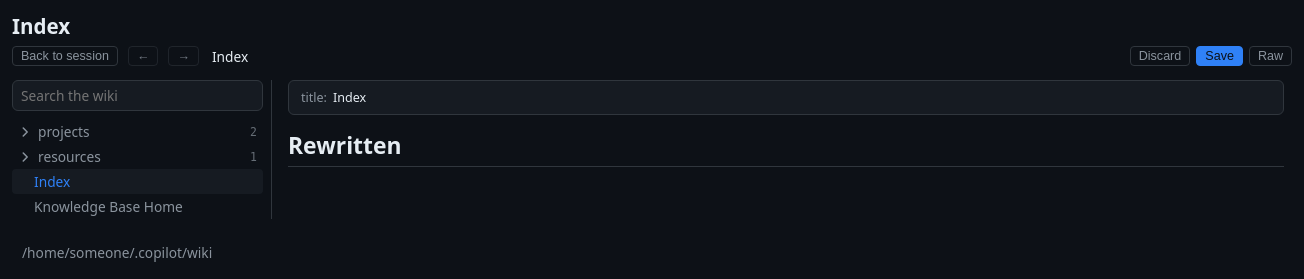
showing a page as the file it is › previews what is being written without saving it first
The width and height of the screenshot is (1304, 279).
Click the button "Raw". click: (1270, 56)
box: [1249,46,1292,66]
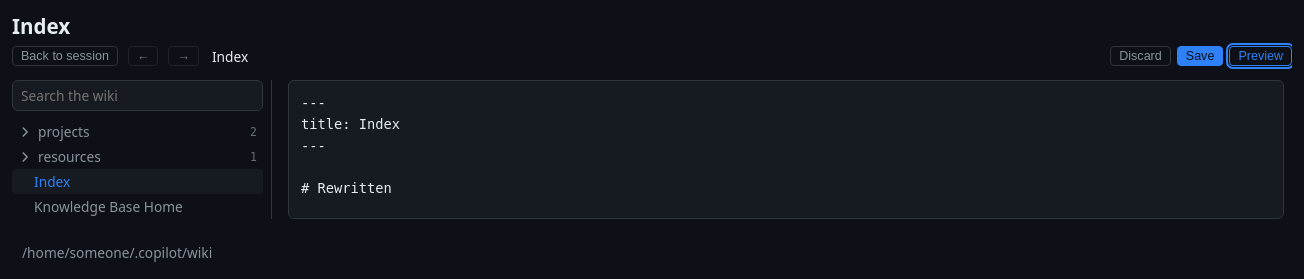
Click the button "Preview". click: (1261, 56)
box: [1229,46,1292,66]
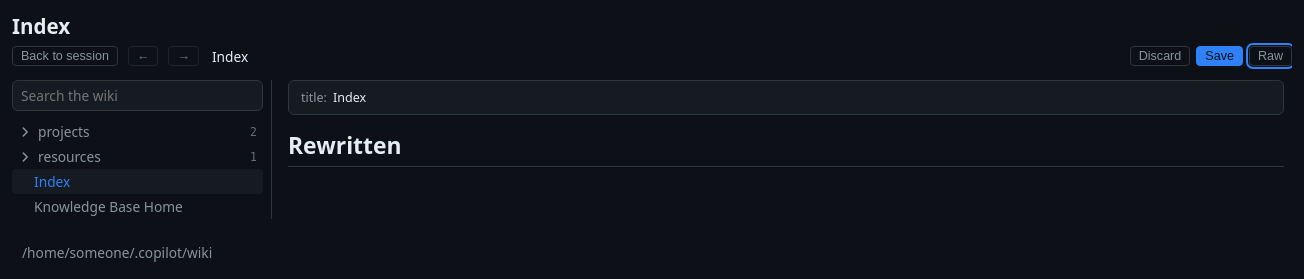
Expected: the heading "Rewritten" is shown, [288,131,1284,167]
